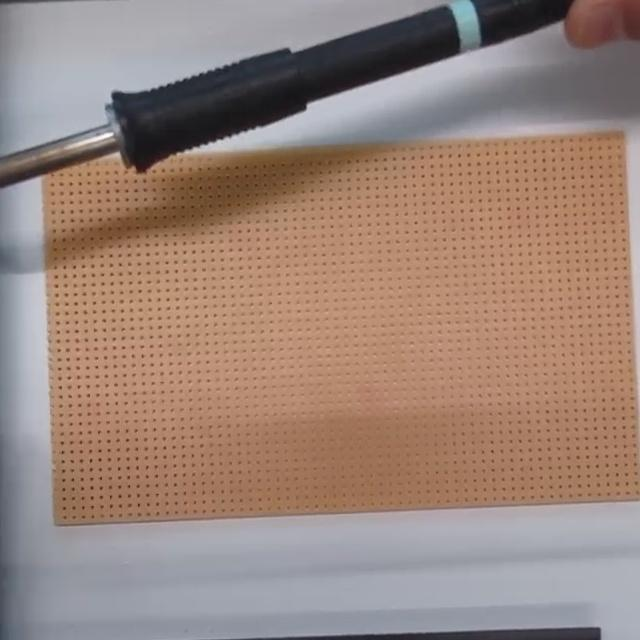soldering_iron: (0, 3, 570, 196)
